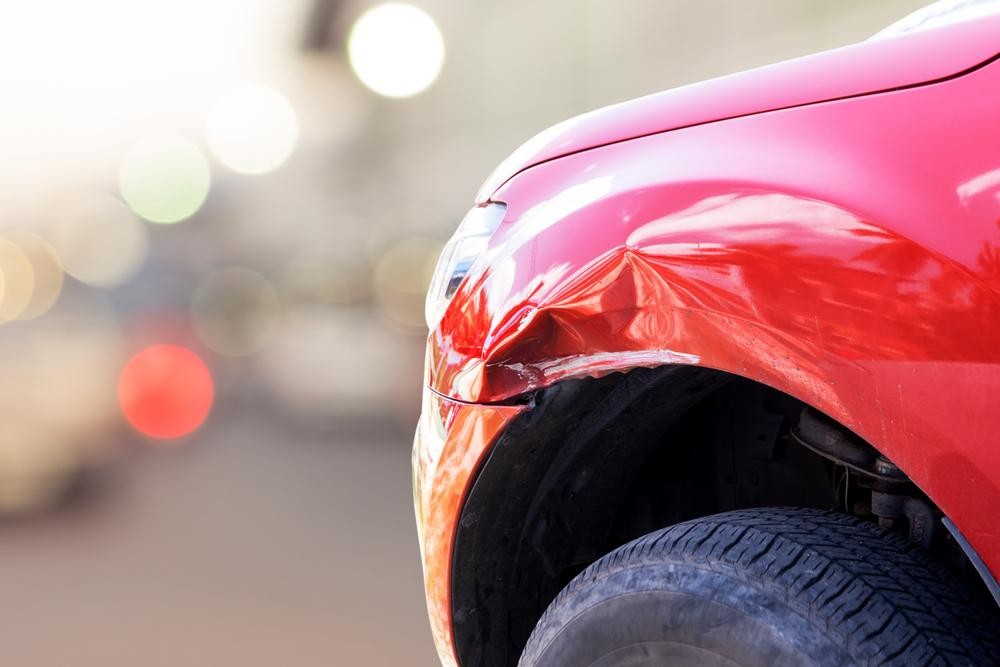dent: (482, 253, 709, 402)
